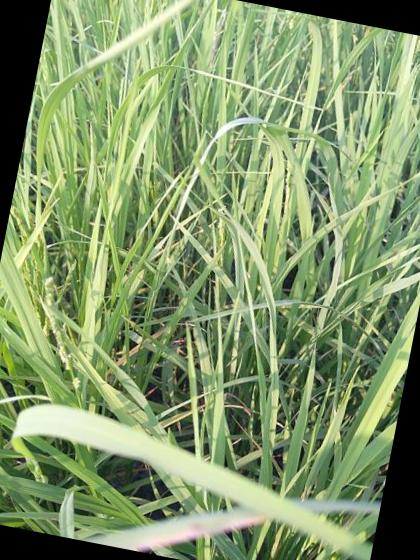Leaf Blight: (109, 513, 263, 552), (158, 410, 192, 429), (196, 404, 205, 412)
